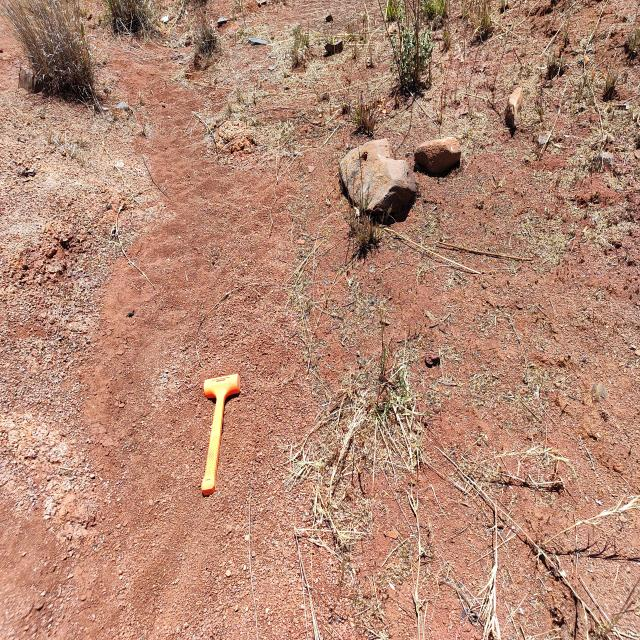Orange_hammer: (200, 373, 241, 496)
